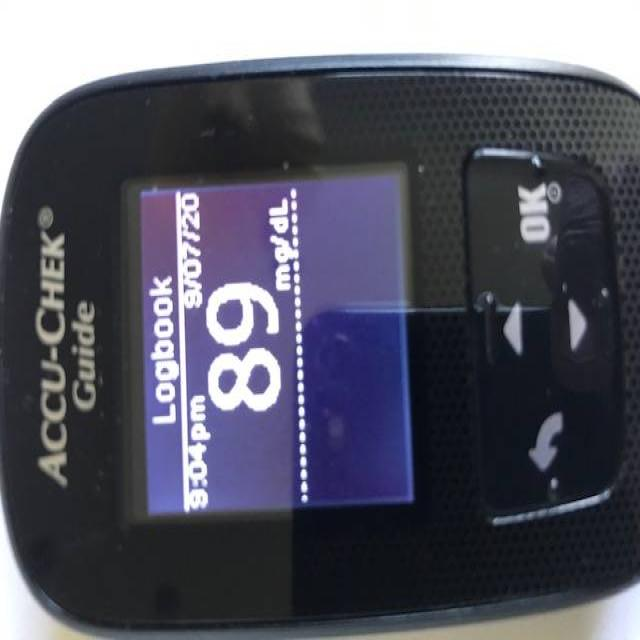gluco: (0, 53, 639, 639)
